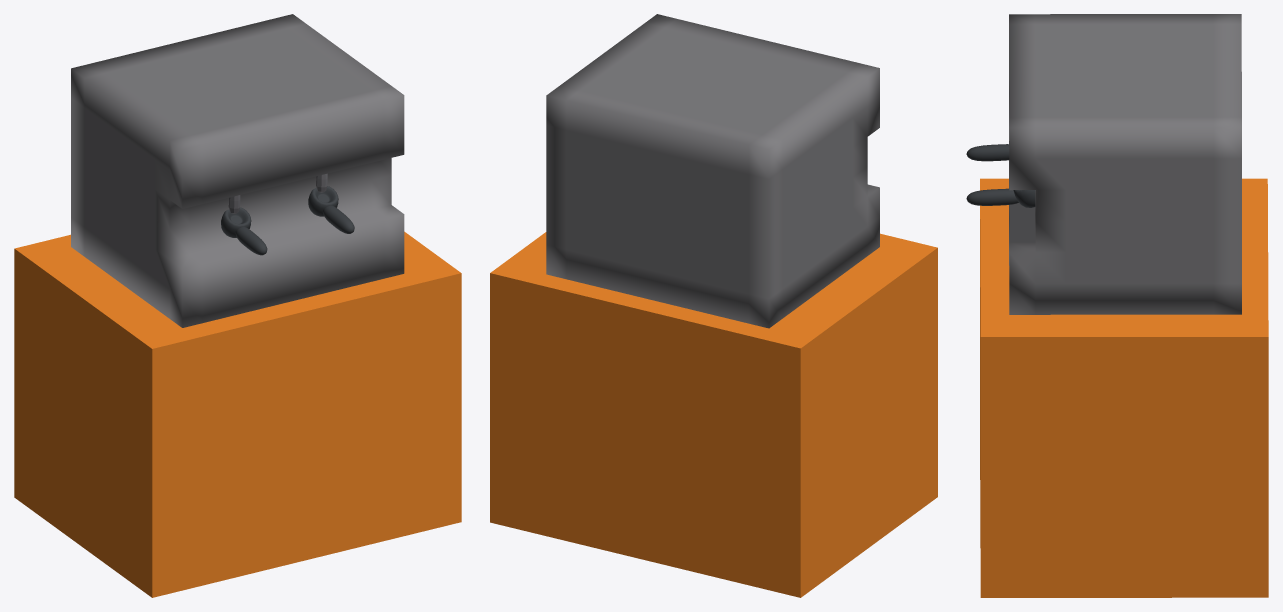
The model's file is coffeemachine1fbx.fbx.
3 views of the same model, side by side, from view 1: azimuth 30°, elevation 25°; view 2: azimuth 150°, elevation 25°; view 3: azimuth 270°, elevation 25° (orthographic). The views are drawn at different scales.
Visible parts, largest first — view 1: pedestal, coffeemachine, coffeemachine.002, coffeemachine.001; view 2: pedestal, coffeemachine; view 3: pedestal, coffeemachine, coffeemachine.002, coffeemachine.001.
Part boxes in pixels (x1,y1,x2,y2): pedestal: (14, 231, 461, 597); coffeemachine: (71, 14, 404, 327); coffeemachine.002: (308, 186, 354, 233); coffeemachine.001: (221, 207, 267, 255); pedestal: (490, 232, 937, 597); coffeemachine: (546, 14, 879, 328); pedestal: (980, 178, 1268, 597); coffeemachine: (1009, 14, 1241, 314); coffeemachine.002: (966, 188, 1035, 207); coffeemachine.001: (966, 144, 1009, 161).
Size of the model in its own units: 705 by 929 by 568.
